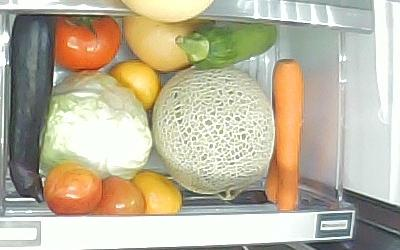cabbage: (39, 69, 151, 181)
carrot: (272, 58, 304, 212), (265, 150, 280, 204)
eggplant: (8, 12, 52, 203)
melon: (150, 67, 275, 194)
prune: (44, 162, 101, 215), (99, 176, 145, 214)
tangerine: (108, 60, 160, 110), (133, 171, 182, 214)
tomato: (52, 13, 124, 69)
zucchini: (174, 23, 278, 70)
